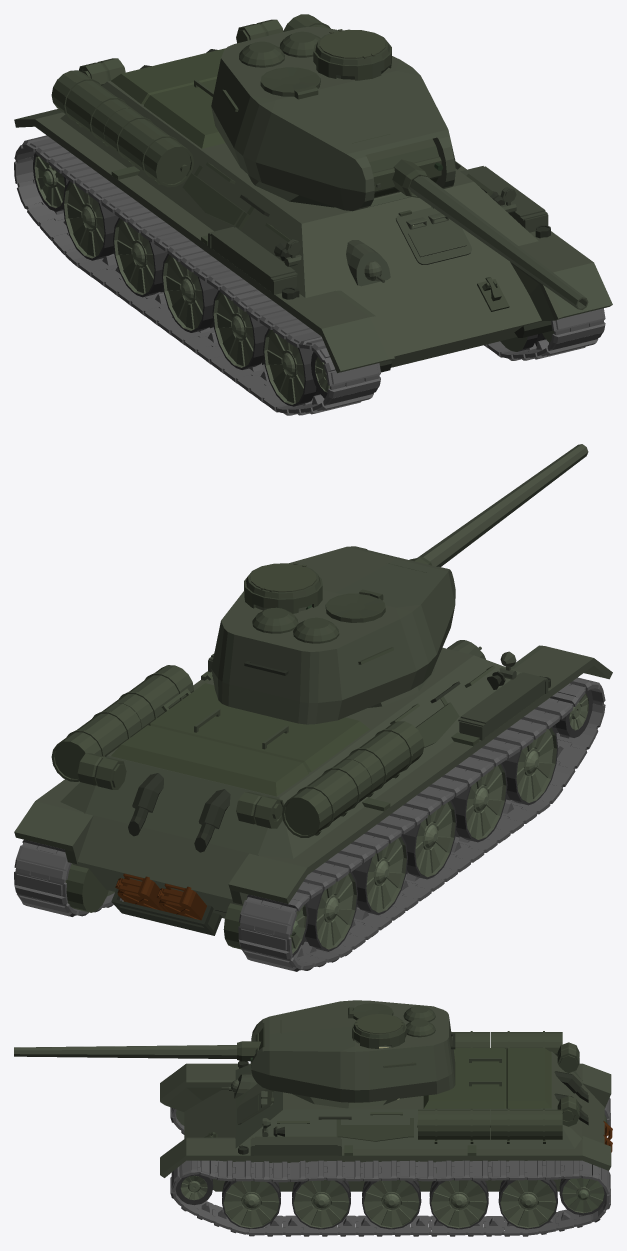
The model's file is TankFBX.fbx.
3 views of the same model, one above another, from view 1: azimuth 30°, elevation 25°; view 2: azimuth 150°, elevation 25°; view 3: azimuth 270°, elevation 25° (orthographic). The views are drawn at different scales.
Visible parts, largest first — view 1: Tank, TurretShell2, TurretBarrel, FrontHatch, BarrelRotator, TopHatch, TopHatch2, TopHatch1; view 2: Tank, TurretShell2, TurretBarrel, TopHatch, TopHatch1, TopHatch2; view 3: Tank, TurretShell2, TurretBarrel, FrontHatch, BarrelRotator, TopHatch, TopHatch2, TopHatch1.
Boxes of the visible parts, x1,y1,x2,y2 form: Tank: (14,14,612,415); TurretShell2: (211,26,455,225); TurretBarrel: (409,176,588,309); FrontHatch: (396,206,471,264); BarrelRotator: (365,138,441,198); TopHatch: (260,67,320,99); TopHatch2: (324,37,385,58); TopHatch1: (319,29,381,51); Tank: (14,640,612,971); TurretShell2: (211,546,455,724); TurretBarrel: (417,444,588,566); TopHatch: (325,589,385,622); TopHatch1: (250,570,312,592); TopHatch2: (255,562,316,584); Tank: (160,1031,612,1236); TurretShell2: (251,1000,455,1108); TurretBarrel: (14,1045,236,1058); FrontHatch: (237,1089,273,1124); BarrelRotator: (237,1027,264,1061); TopHatch: (348,1003,393,1020); TopHatch2: (355,1014,379,1033); TopHatch1: (379,1014,403,1033).
Size of the model in its own units: 0.0381 by 0.0343 by 0.1036.
